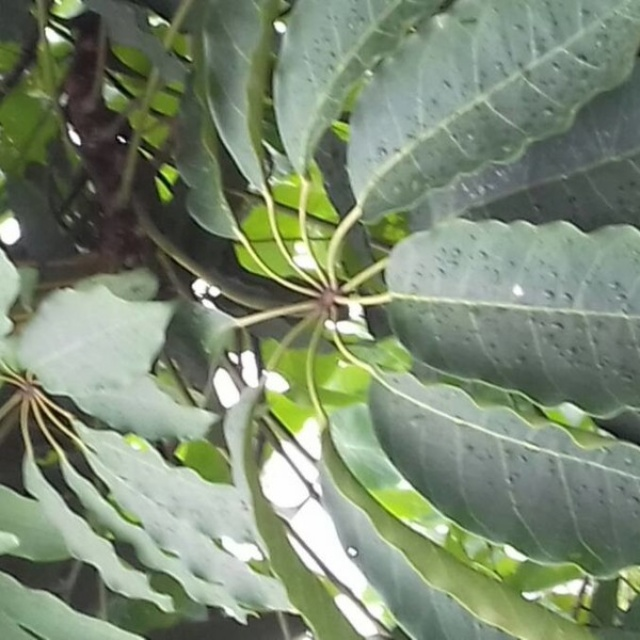obstacle: (93, 5, 590, 639)
